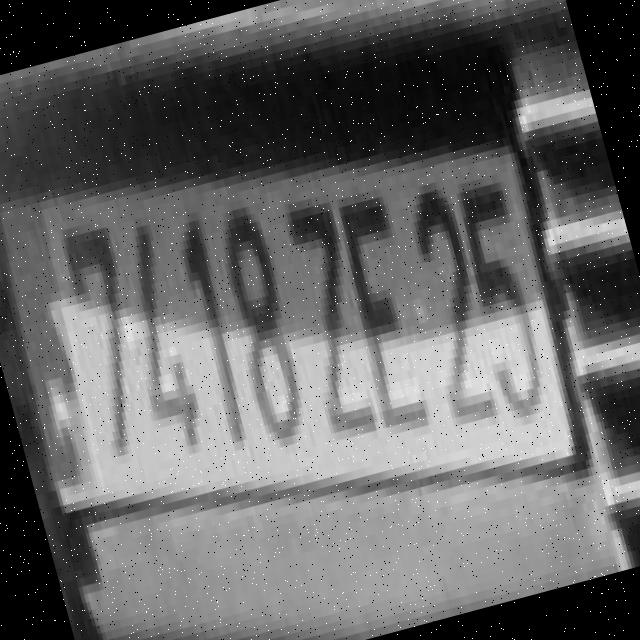Autre: (0, 142, 591, 518)
